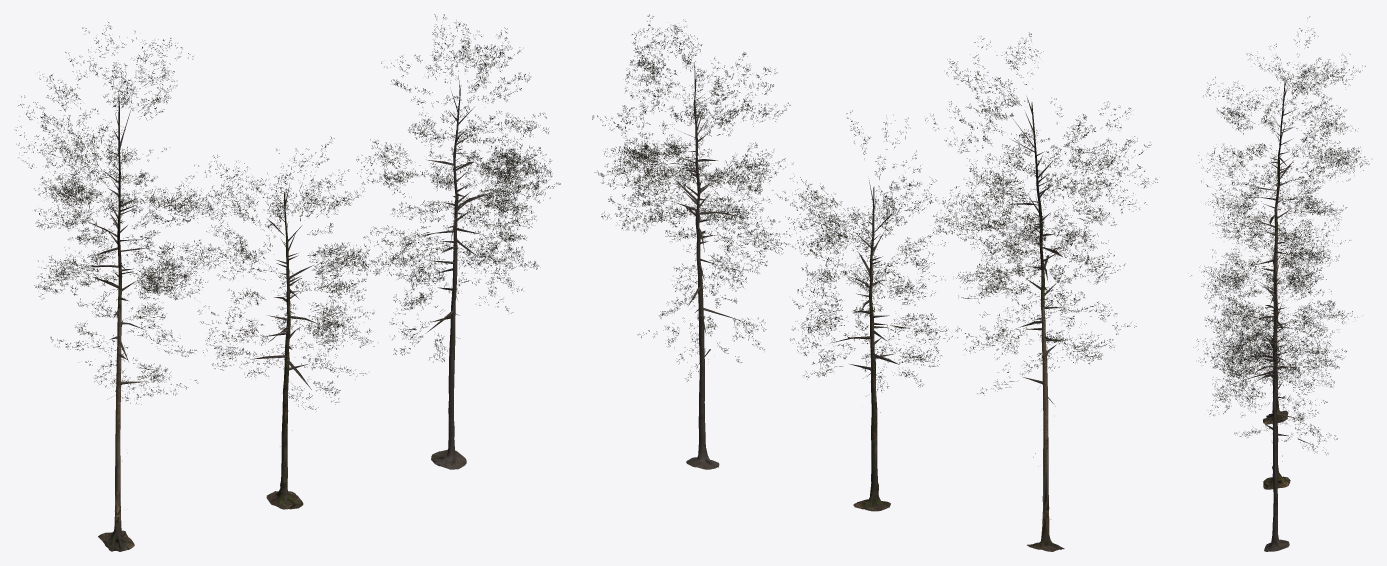
File: pine_tree_01_lod2.glb
The picture shows the model from 3 angles, left to right: view 1: azimuth 30°, elevation 25°; view 2: azimuth 150°, elevation 25°; view 3: azimuth 270°, elevation 25°; orthographic projection. The views are drawn at different scales.
Visible parts, largest first — view 1: pine_tree_01_a_LOD0, pine_tree_01_c_LOD0, pine_tree_01_b_LOD0; view 2: pine_tree_01_a_LOD0, pine_tree_01_c_LOD0, pine_tree_01_b_LOD0; view 3: pine_tree_01_a_LOD0, pine_tree_01_c_LOD0, pine_tree_01_b_LOD0.
Boxes of the visible parts, left/top/right/bottom form: pine_tree_01_a_LOD0: left=14, top=14, right=560, bottom=551; pine_tree_01_c_LOD0: left=431, top=85, right=466, bottom=469; pine_tree_01_b_LOD0: left=266, top=192, right=303, bottom=509; pine_tree_01_a_LOD0: left=592, top=14, right=1157, bottom=551; pine_tree_01_c_LOD0: left=686, top=73, right=719, bottom=469; pine_tree_01_b_LOD0: left=853, top=187, right=890, bottom=511; pine_tree_01_a_LOD0: left=1190, top=16, right=1369, bottom=461; pine_tree_01_c_LOD0: left=1264, top=253, right=1289, bottom=551; pine_tree_01_b_LOD0: left=1263, top=238, right=1290, bottom=489.
Size of the model in its own units: 21.79 by 20.32 by 8.44.
Materials: 6 (6 with a texture image).
